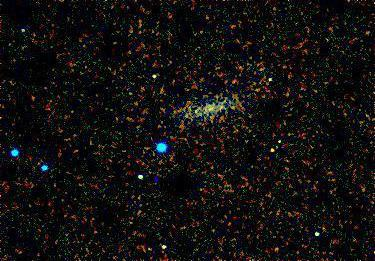star: (257, 135, 287, 165)
